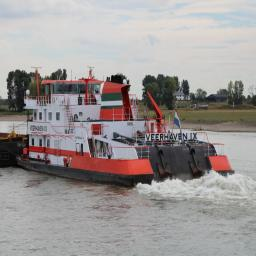tugboat: (14, 66, 239, 192)
